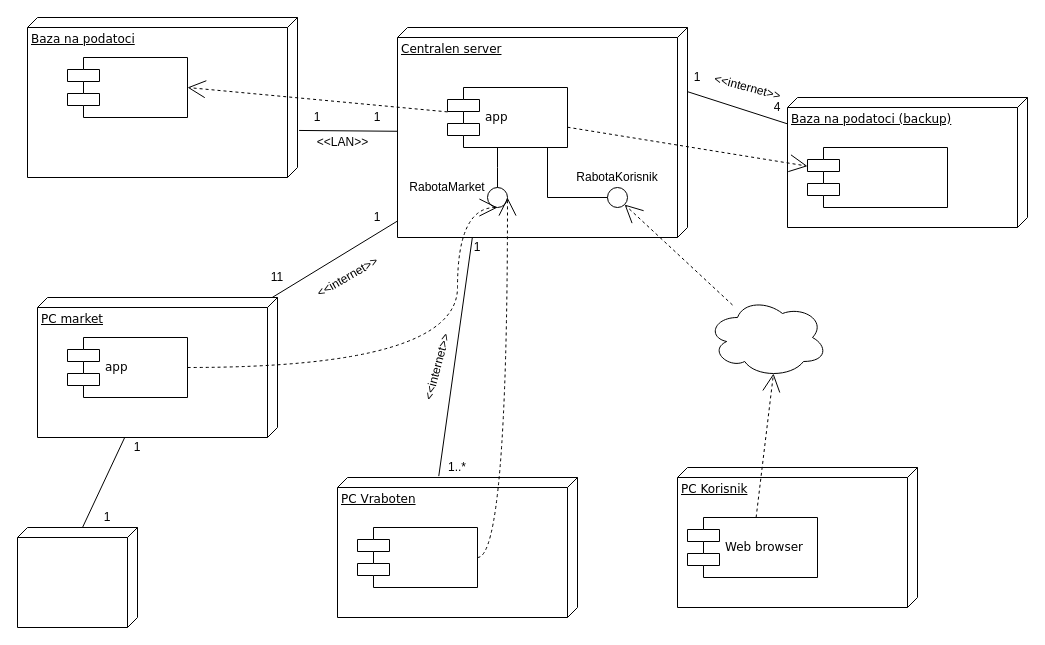
The diagram is 1045 pixels wide and 645 high, and some of its shapes have lost their labels. Each missing label, with the centre of its shape:
"<<table>> Bacup database" goes at (x=877, y=177).
"<<table>> Database" goes at (x=127, y=87).
"INTERNET" goes at (x=767, y=337).
"Pecatar" goes at (x=77, y=577).
"Web app" goes at (x=417, y=557).
